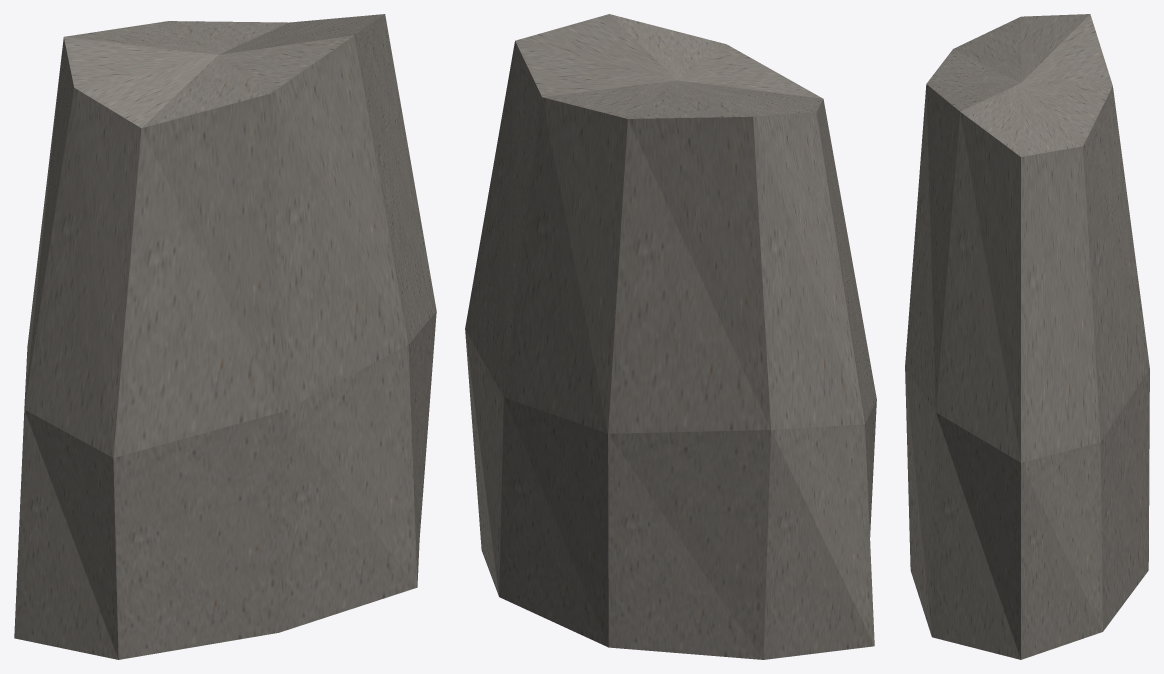
File: showcase_rock_face.glb
The picture shows the model from 3 angles, left to right: view 1: azimuth 30°, elevation 25°; view 2: azimuth 150°, elevation 25°; view 3: azimuth 270°, elevation 25°; orthographic projection. The views are drawn at different scales.
Parts seen in each view (by area): view 1: outdoor_showcase_rock_face; view 2: outdoor_showcase_rock_face; view 3: outdoor_showcase_rock_face.
Part boxes in pixels (box(x1,y1,x2,y2)): outdoor_showcase_rock_face: box(14, 14, 436, 659); outdoor_showcase_rock_face: box(465, 14, 876, 659); outdoor_showcase_rock_face: box(905, 14, 1149, 659).
Bounding box in the file's own units: 4 × 5 × 2.2.
1 material, 1 textured.
